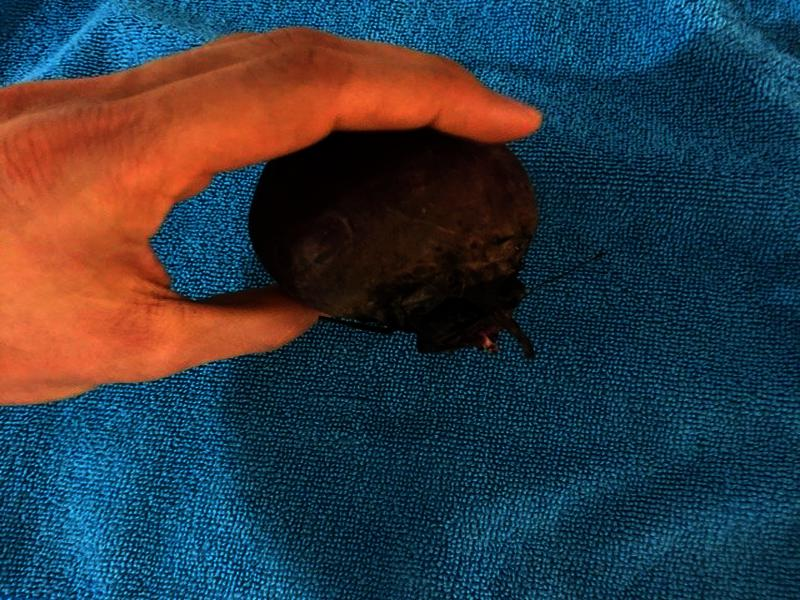Beet: (251, 130, 536, 357)
